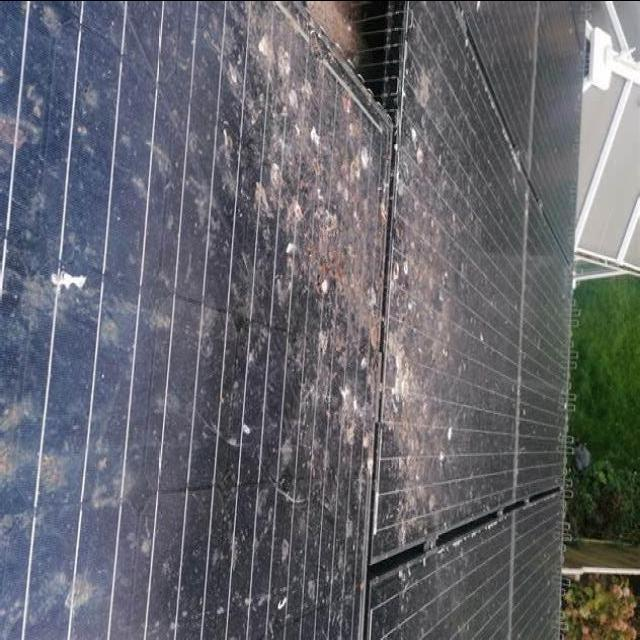soiled: (5, 17, 385, 638), (391, 9, 527, 632)
